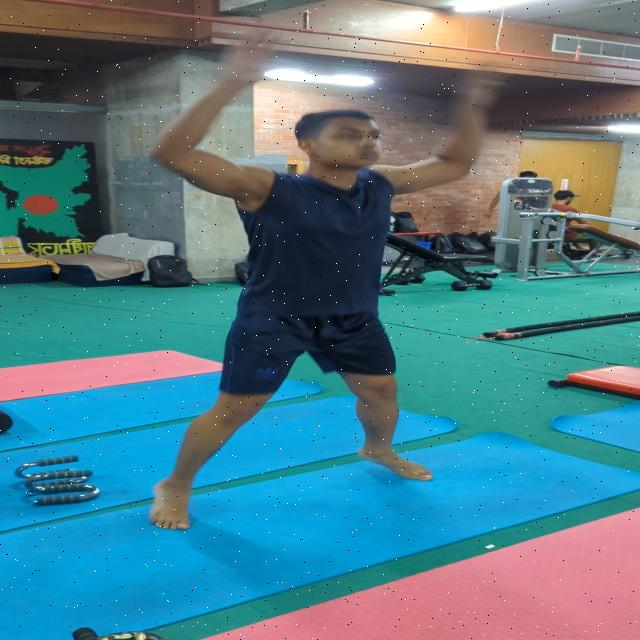Normal_JumpingJacks: (119, 40, 524, 530)
